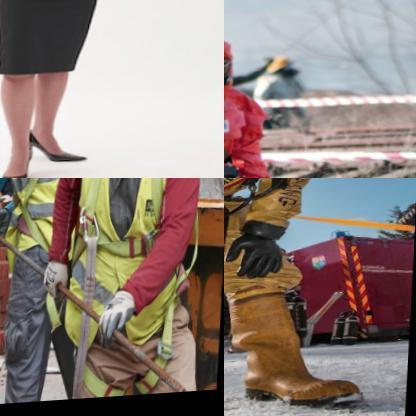vest: (63, 178, 203, 354), (224, 178, 337, 301), (2, 178, 81, 254)
